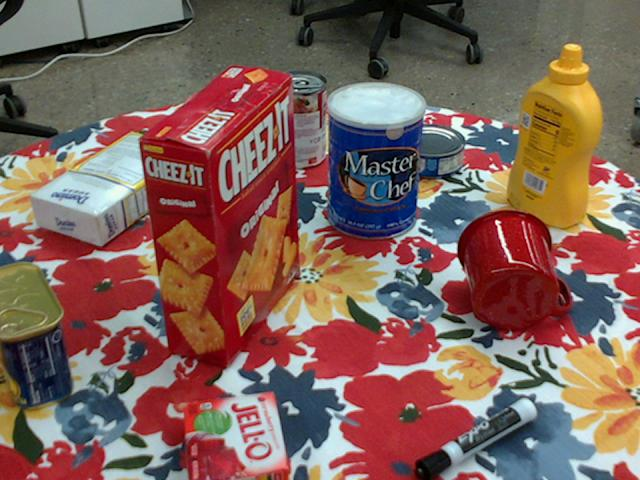cracker_box: (134, 65, 295, 366)
gelatin_box: (184, 391, 292, 479)
large_marker: (416, 397, 538, 479)
master_chef_can: (327, 82, 425, 240)
mug: (455, 208, 571, 330)
mustard_bottle: (505, 46, 600, 228)
potted_meat_can: (0, 261, 72, 407)
sugar_box: (30, 132, 194, 247)
tomato_soup_can: (270, 71, 327, 169)
tuna_fish_can: (397, 125, 467, 179)
